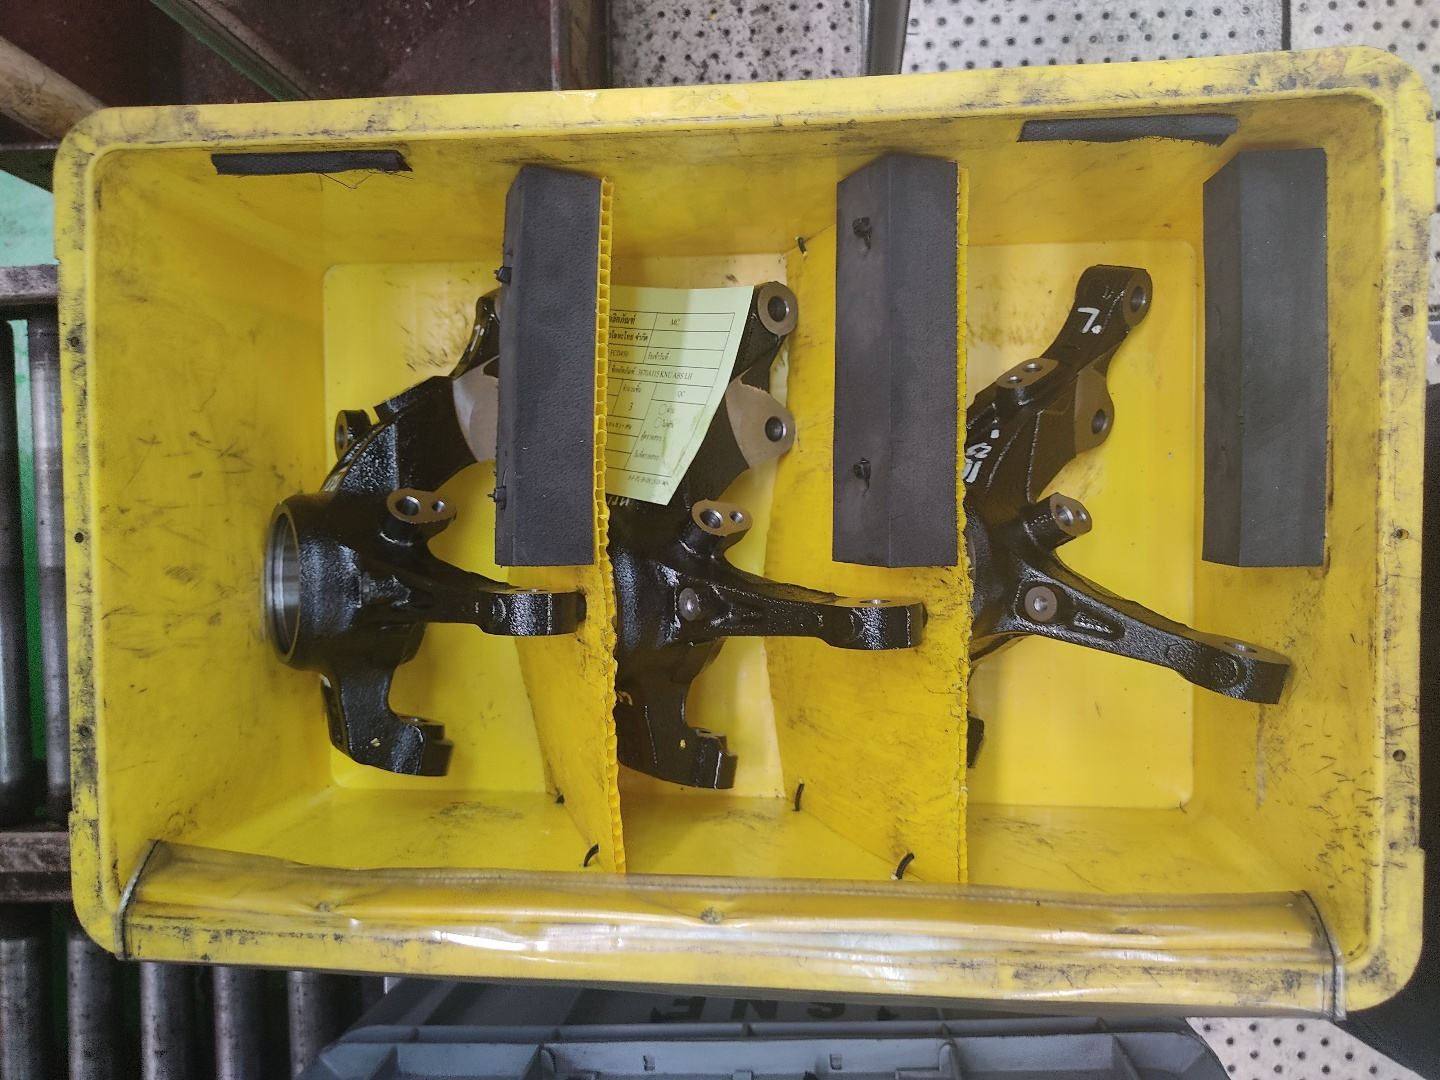abs-lh: (951, 250, 1310, 782), (254, 265, 594, 784), (600, 278, 932, 800)
